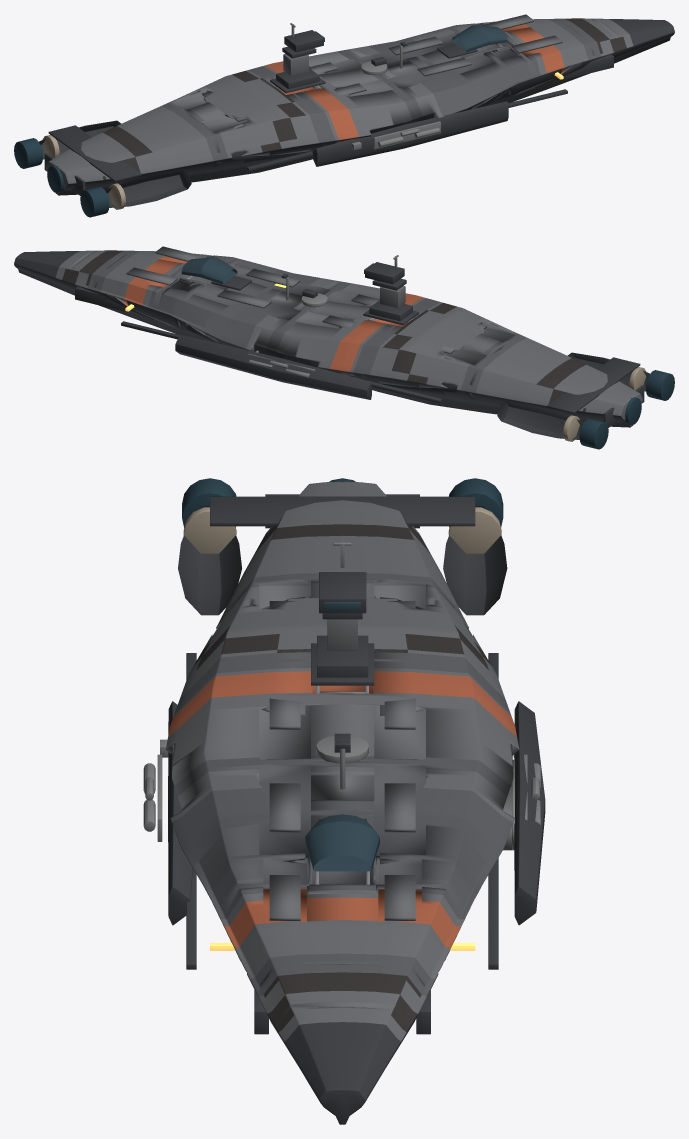
Rendered from warden_c1_lod1.glb.
3 renders of one model, top to bottom at view 1: azimuth 30°, elevation 25°; view 2: azimuth 150°, elevation 25°; view 3: azimuth 270°, elevation 25°, orthographic. The views are drawn at different scales.
Parts seen in each view (by area): view 1: LOD0_Hull, LOD0_CabinShoulder, LOD0_AftWalk, LOD0_Canopy, LOD0_Bell_Port, LOD0_Bell_Starboard, LOD0_DriveCollar_Center, LOD0_Bell_Center; view 2: LOD0_Hull, LOD0_CabinShoulder, LOD0_Canopy, LOD0_AftWalk, LOD0_Bell_Starboard, LOD0_Bell_Port, LOD0_DriveCollar_Center, LOD0_Bell_Center; view 3: LOD0_Hull, LOD0_CabinShoulder, LOD0_AftWalk, LOD0_Canopy, LOD0_DriveCollar_Center, LOD0_Bell_Starboard, LOD0_Bell_Port.
Part boxes in pixels (x1,y1,x2,y2): LOD0_Hull: (46, 14, 674, 195); LOD0_CabinShoulder: (39, 30, 508, 207); LOD0_AftWalk: (275, 23, 502, 150); LOD0_Canopy: (451, 25, 507, 51); LOD0_Bell_Port: (80, 186, 109, 217); LOD0_Bell_Starboard: (14, 138, 42, 168); LOD0_DriveCollar_Center: (42, 135, 125, 209); LOD0_Bell_Center: (47, 165, 66, 193); LOD0_Hull: (14, 246, 642, 427); LOD0_CabinShoulder: (175, 262, 649, 439); LOD0_Canopy: (181, 257, 237, 283); LOD0_AftWalk: (186, 255, 413, 377); LOD0_Bell_Starboard: (579, 418, 608, 449); LOD0_Bell_Port: (646, 370, 674, 400); LOD0_DriveCollar_Center: (563, 367, 646, 441); LOD0_Bell_Center: (622, 397, 641, 425); LOD0_Hull: (166, 481, 519, 1124); LOD0_CabinShoulder: (168, 494, 545, 925); LOD0_AftWalk: (143, 542, 541, 884); LOD0_Canopy: (305, 814, 379, 871); LOD0_DriveCollar_Center: (183, 507, 501, 553); LOD0_Bell_Starboard: (449, 478, 503, 527); LOD0_Bell_Port: (182, 478, 236, 527).
Size of what is drawn, in the model's own units: 19.29 by 4.06 by 5.45.
